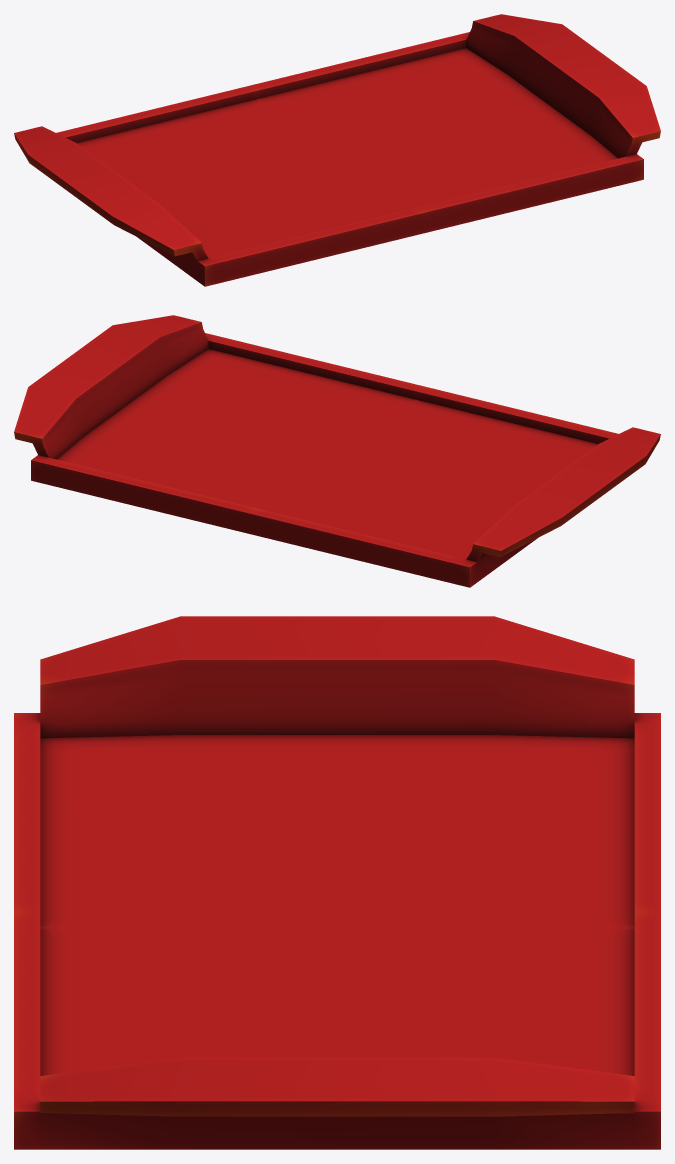
The model's file is CafeFood01_6.FBX.
3 renders of one model, top to bottom at view 1: azimuth 30°, elevation 25°; view 2: azimuth 150°, elevation 25°; view 3: azimuth 270°, elevation 25°, orthographic. The views are drawn at different scales.
Visible parts, largest first — view 1: CafeFood01_6; view 2: CafeFood01_6; view 3: CafeFood01_6.
Boxes of the visible parts, x1,y1,x2,y2 form: CafeFood01_6: (14, 14, 660, 286); CafeFood01_6: (14, 315, 660, 587); CafeFood01_6: (14, 616, 660, 1149).
Size of what is drawn, in the model's own units: 0.7653 by 0.0674 by 0.4317.
